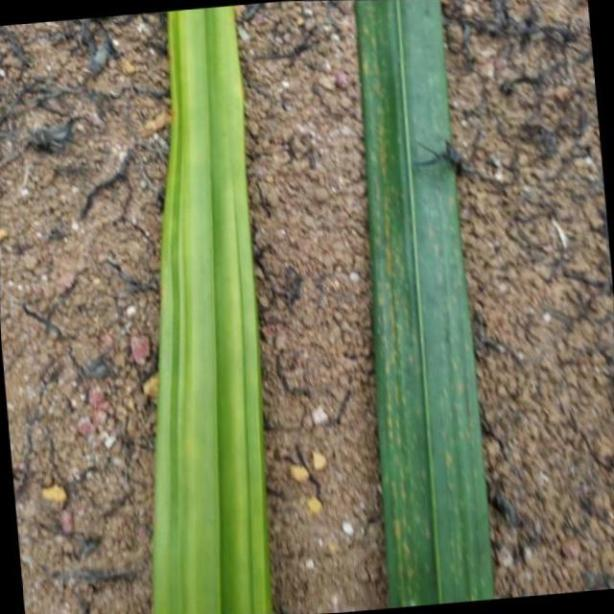nitrogen: (356, 0, 492, 614), (144, 0, 275, 614)
